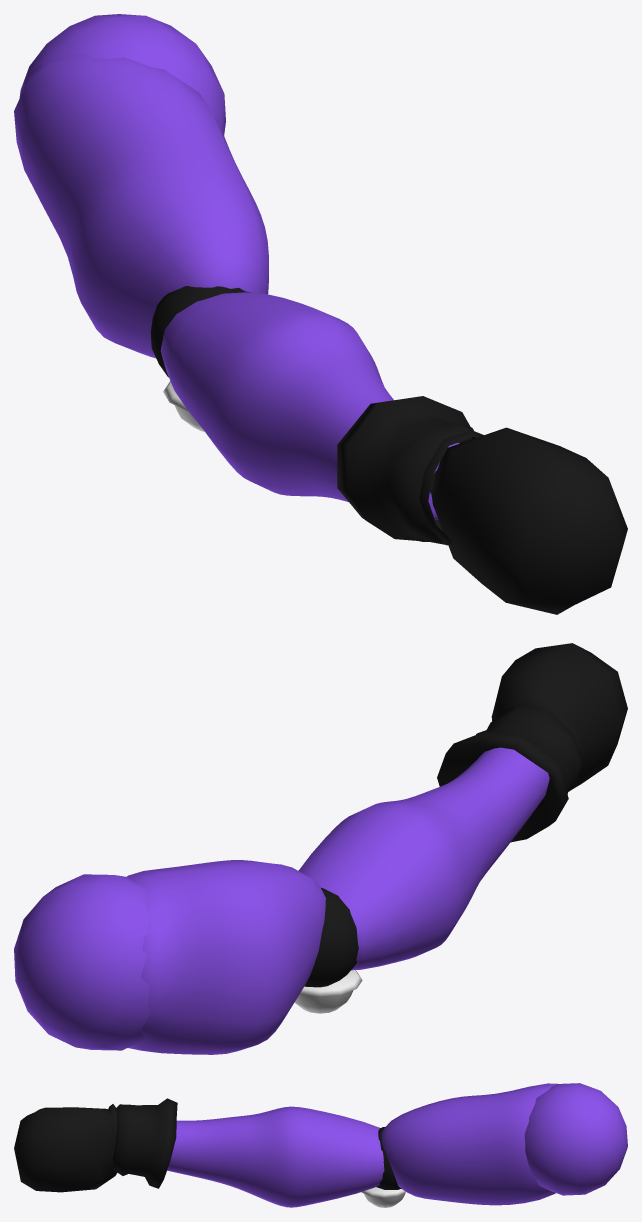
Rendered from StarPlatinumArm.fbx.
3 views of the same model, one above another, from view 1: azimuth 30°, elevation 25°; view 2: azimuth 150°, elevation 25°; view 3: azimuth 270°, elevation 25° (orthographic). The views are drawn at different scales.
Parts seen in each view (by area): view 1: Star Platinum.005; view 2: Star Platinum.005; view 3: Star Platinum.005.
Boxes of the visible parts, x1,y1,x2,y2 form: Star Platinum.005: (14, 14, 627, 614); Star Platinum.005: (14, 643, 627, 1054); Star Platinum.005: (14, 1083, 627, 1207).
Size of the model in its own units: 21.45 by 20.86 by 83.44.
